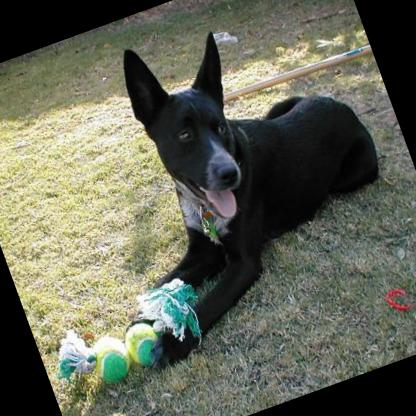kelpie: (38, 0, 416, 377)
